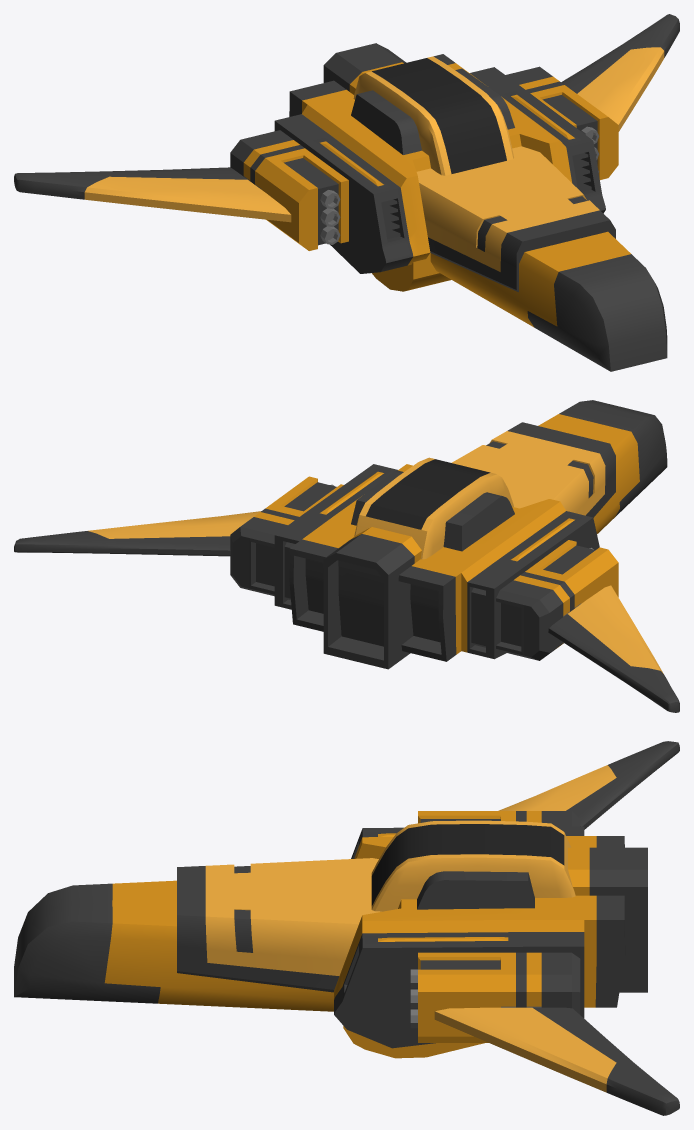
The model's file is Spaceship_9.glb.
3 renders of one model, top to bottom at view 1: azimuth 30°, elevation 25°; view 2: azimuth 150°, elevation 25°; view 3: azimuth 270°, elevation 25°, orthographic. The views are drawn at different scales.
Parts seen in each view (by area): view 1: Spaceship_FernandoTheFlamingo; view 2: Spaceship_FernandoTheFlamingo; view 3: Spaceship_FernandoTheFlamingo.
Boxes of the visible parts, <box> form: Spaceship_FernandoTheFlamingo: <box>14,14,679,371</box>; Spaceship_FernandoTheFlamingo: <box>14,400,679,712</box>; Spaceship_FernandoTheFlamingo: <box>14,741,679,1115</box>.
Size of the model in its own units: 11.14 by 2.53 by 8.66.
1 material, 1 textured.
